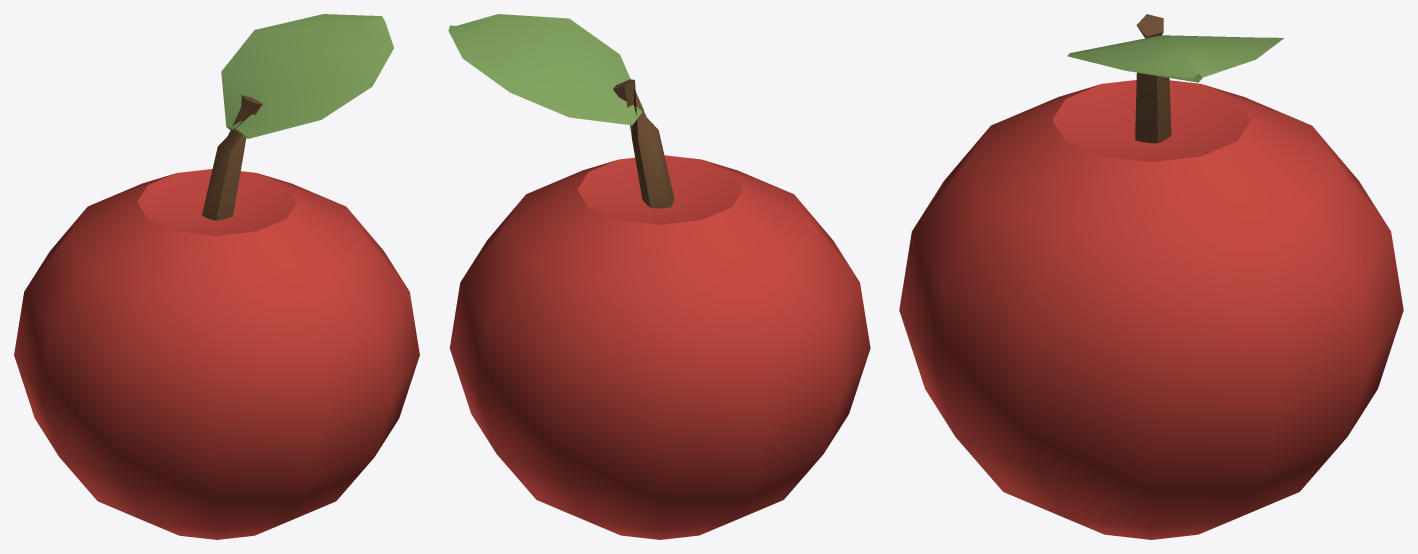
The model's file is apple.glb.
3 renders of one model, left to right at view 1: azimuth 30°, elevation 25°; view 2: azimuth 150°, elevation 25°; view 3: azimuth 270°, elevation 25°, orthographic. The views are drawn at different scales.
Parts seen in each view (by area): view 1: apple; view 2: apple; view 3: apple.
Part boxes in pixels (bbox=[...]): apple: bbox=[14, 14, 419, 539]; apple: bbox=[448, 14, 870, 539]; apple: bbox=[899, 14, 1403, 539].
Size of the model in its own units: 0.1026 by 0.1215 by 0.1.
